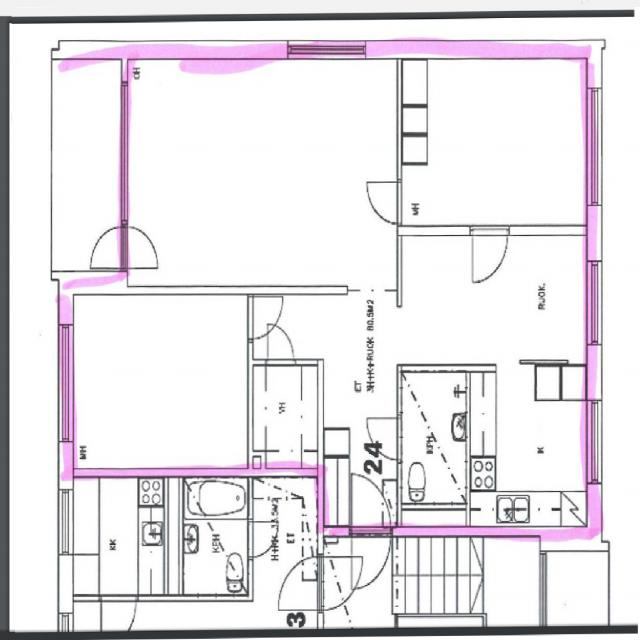door: (351, 473, 390, 535), (351, 526, 390, 588), (472, 226, 507, 282), (120, 226, 160, 268), (89, 226, 128, 268), (364, 182, 401, 224), (247, 298, 283, 338), (366, 418, 401, 459), (268, 323, 294, 366)
